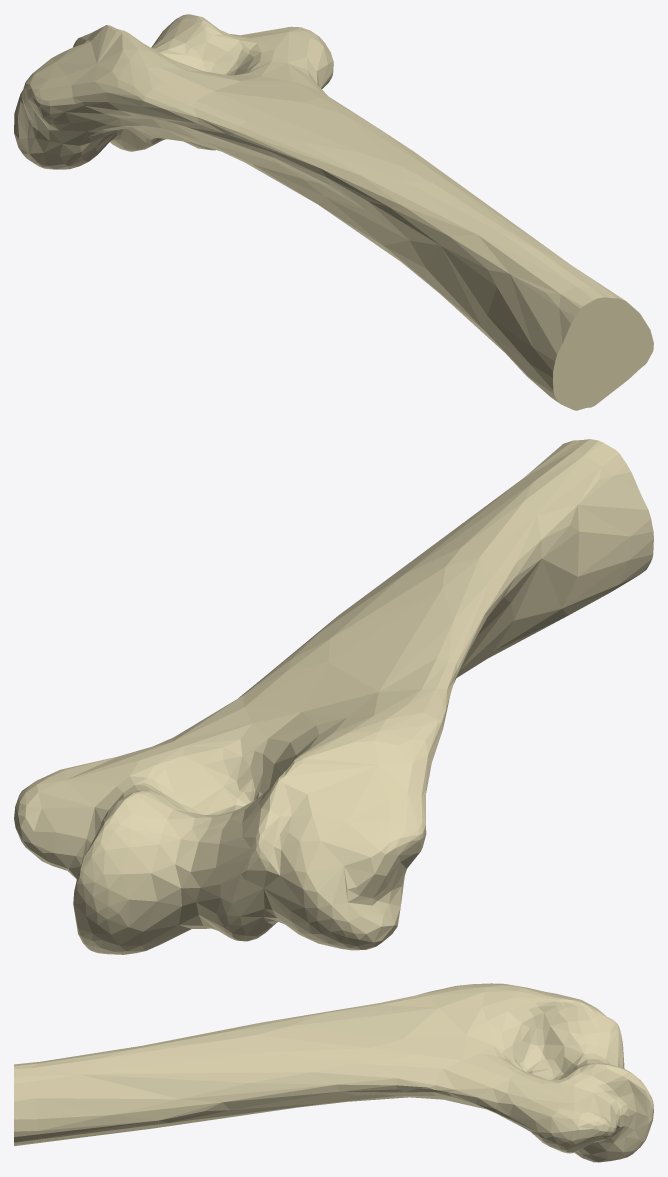
File: right-humerus-cut-1-bottom.glb
3 views of the same model, one above another, from view 1: azimuth 30°, elevation 25°; view 2: azimuth 150°, elevation 25°; view 3: azimuth 270°, elevation 25° (orthographic). The views are drawn at different scales.
Parts seen in each view (by area): view 1: 7bb88334-8cf9-4633-97f5-54cb8c9beb3e; view 2: 7bb88334-8cf9-4633-97f5-54cb8c9beb3e; view 3: 7bb88334-8cf9-4633-97f5-54cb8c9beb3e.
Part boxes in pixels (x1,y1,x2,y2): 7bb88334-8cf9-4633-97f5-54cb8c9beb3e: (14,14,653,410); 7bb88334-8cf9-4633-97f5-54cb8c9beb3e: (14,439,653,954); 7bb88334-8cf9-4633-97f5-54cb8c9beb3e: (14,983,653,1162).
Size of the model in its own units: 63.12 by 32.55 by 151.
